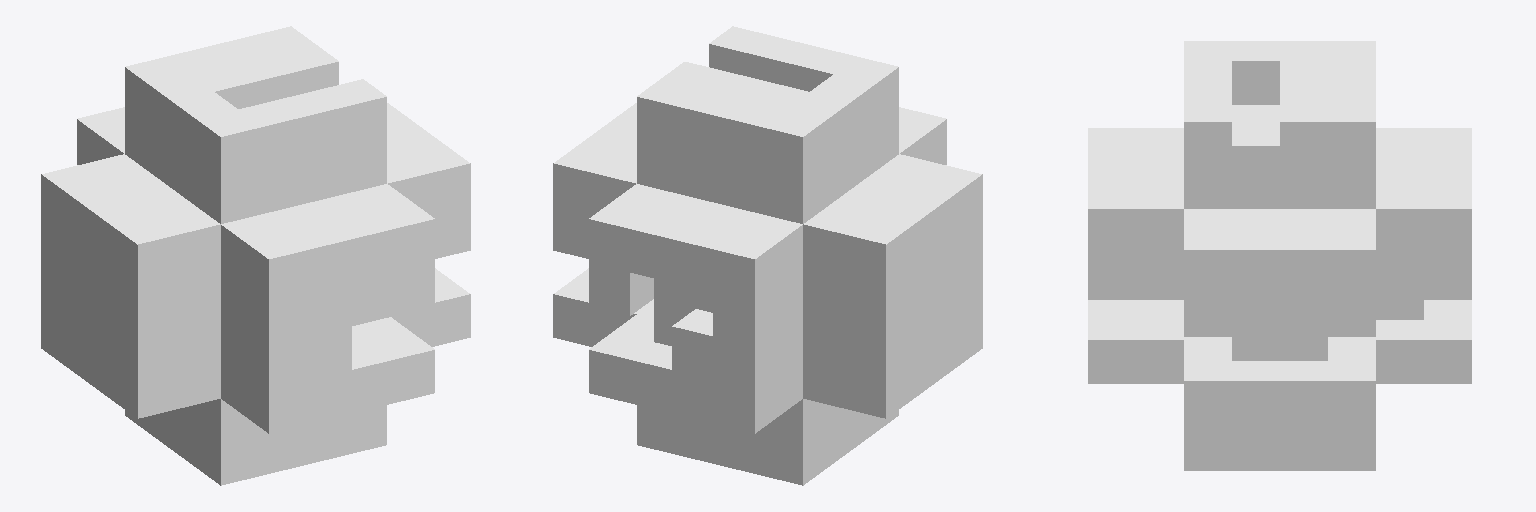
The model's file is golem-1.obj.
The picture shows the model from 3 angles: view 1: azimuth 30°, elevation 25°; view 2: azimuth 150°, elevation 25°; view 3: azimuth 270°, elevation 25°; orthographic projection.
Visible parts, largest first — view 1: object 1; view 2: object 1; view 3: object 1.
Part boxes in pixels (x1,y1,x2,y2): object 1: (41,26,470,485); object 1: (553,26,982,485); object 1: (1088,41,1471,470).
Size of the model in its own units: 1.6 by 1.6 by 1.6.